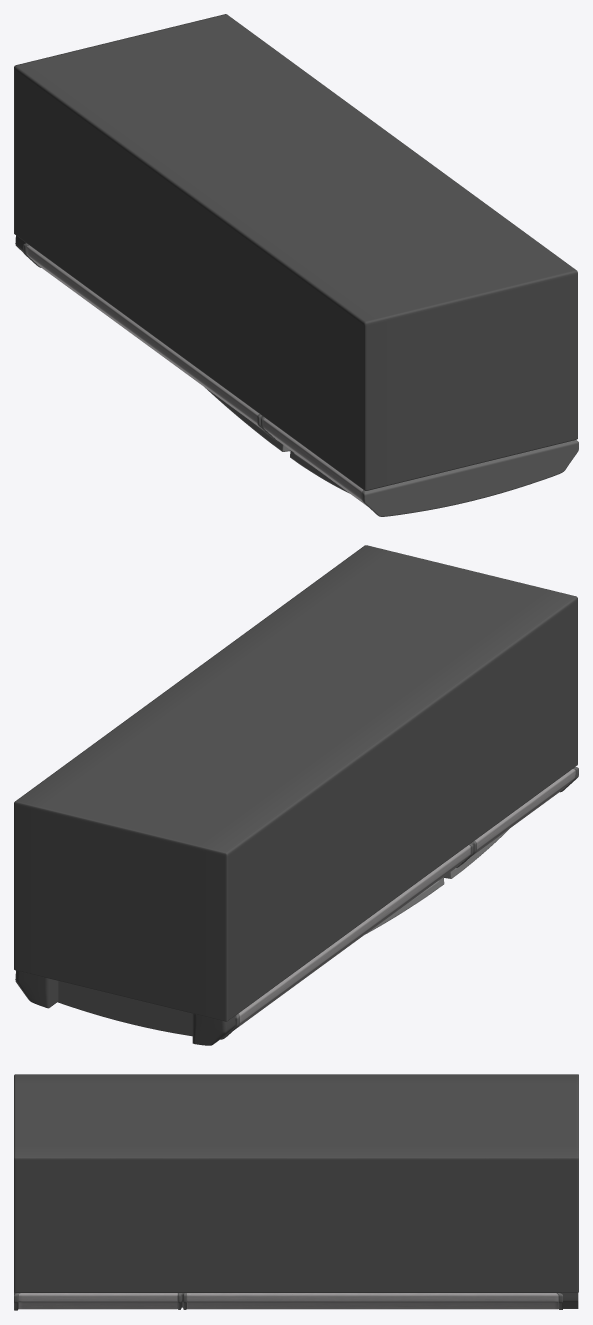
The model's file is Fridge.obj.
3 views of the same model, one above another, from view 1: azimuth 30°, elevation 25°; view 2: azimuth 150°, elevation 25°; view 3: azimuth 270°, elevation 25° (orthographic). The views are drawn at different scales.
Parts seen in each view (by area): view 1: refrigerator_body, refrigerator_covers, refrigerator_door, refrigerator_handle; view 2: refrigerator_body, refrigerator_door, refrigerator_covers, refrigerator_handle; view 3: refrigerator_body, refrigerator_door, refrigerator_covers.
Part boxes in pixels (left/top/right/bottom): refrigerator_body: left=14, top=14, right=577, bottom=490; refrigerator_covers: left=23, top=243, right=578, bottom=516; refrigerator_door: left=26, top=245, right=366, bottom=505; refrigerator_handle: left=204, top=387, right=349, bottom=493; refrigerator_body: left=14, top=545, right=577, bottom=1045; refrigerator_door: left=233, top=769, right=575, bottom=1030; refrigerator_covers: left=58, top=767, right=578, bottom=1039; refrigerator_handle: left=365, top=829, right=508, bottom=934; refrigerator_body: left=14, top=1074, right=578, bottom=1308; refrigerator_door: left=18, top=1293, right=558, bottom=1309; refrigerator_covers: left=14, top=1292, right=562, bottom=1310.
Bounding box in the file's own units: 71.27 × 68.5 × 202.
5 materials, 2 textured.
